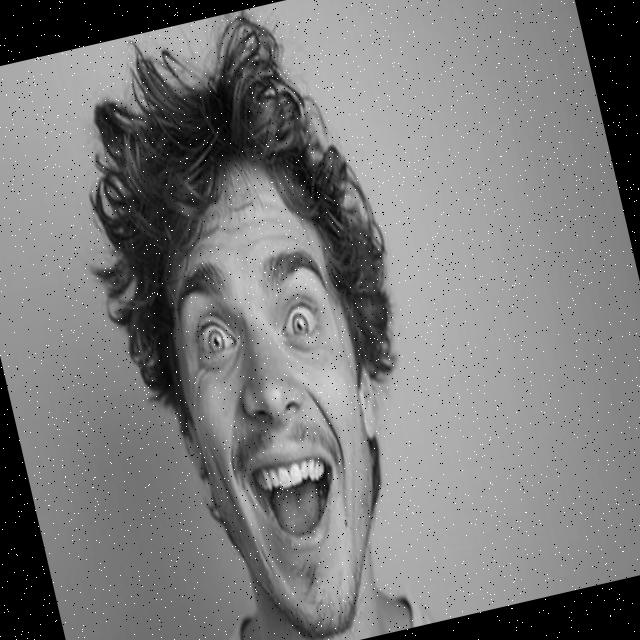Surprised: (135, 149, 415, 640)
